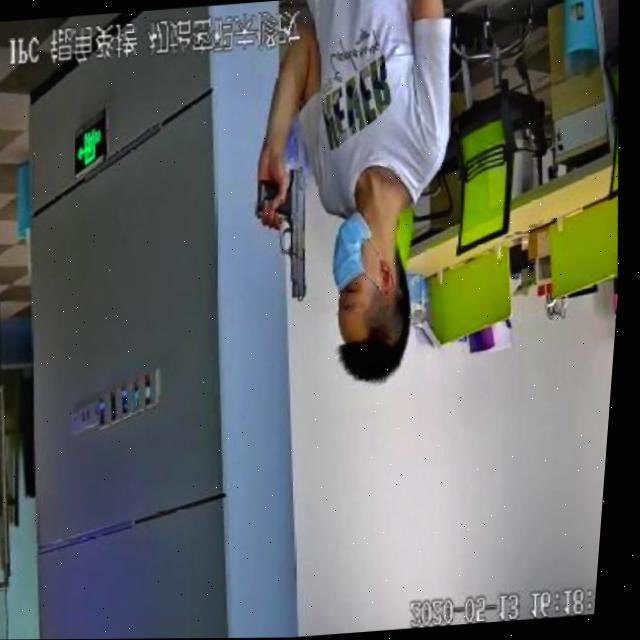gun: (240, 153, 334, 311)
